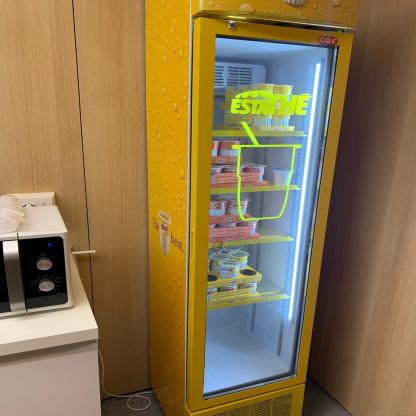pot: (226, 138, 245, 160), (280, 167, 297, 188)
